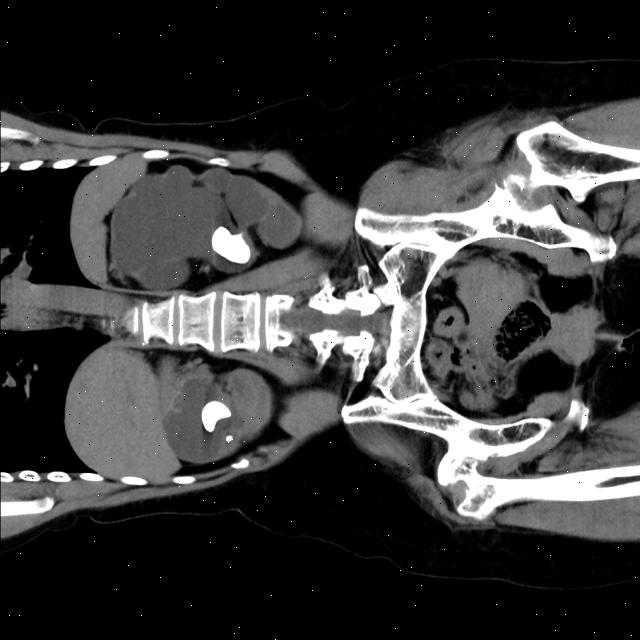kidneystone: (212, 225, 251, 263), (201, 400, 231, 432), (226, 434, 232, 441)
